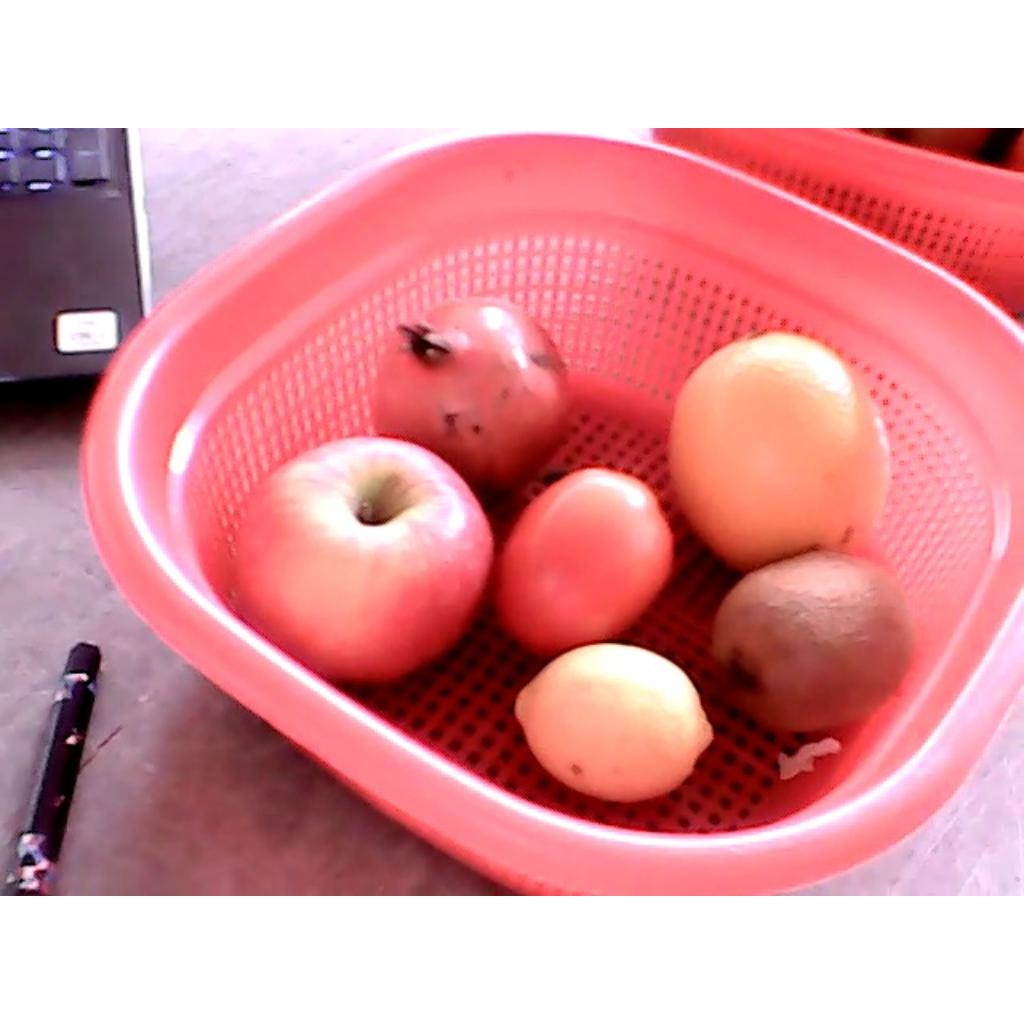apple: (236, 434, 495, 681)
kiwi: (711, 548, 915, 729)
lemon: (517, 643, 714, 798)
orange: (670, 331, 895, 572)
pomegranate: (370, 298, 572, 487)
tomato: (495, 469, 676, 653)
